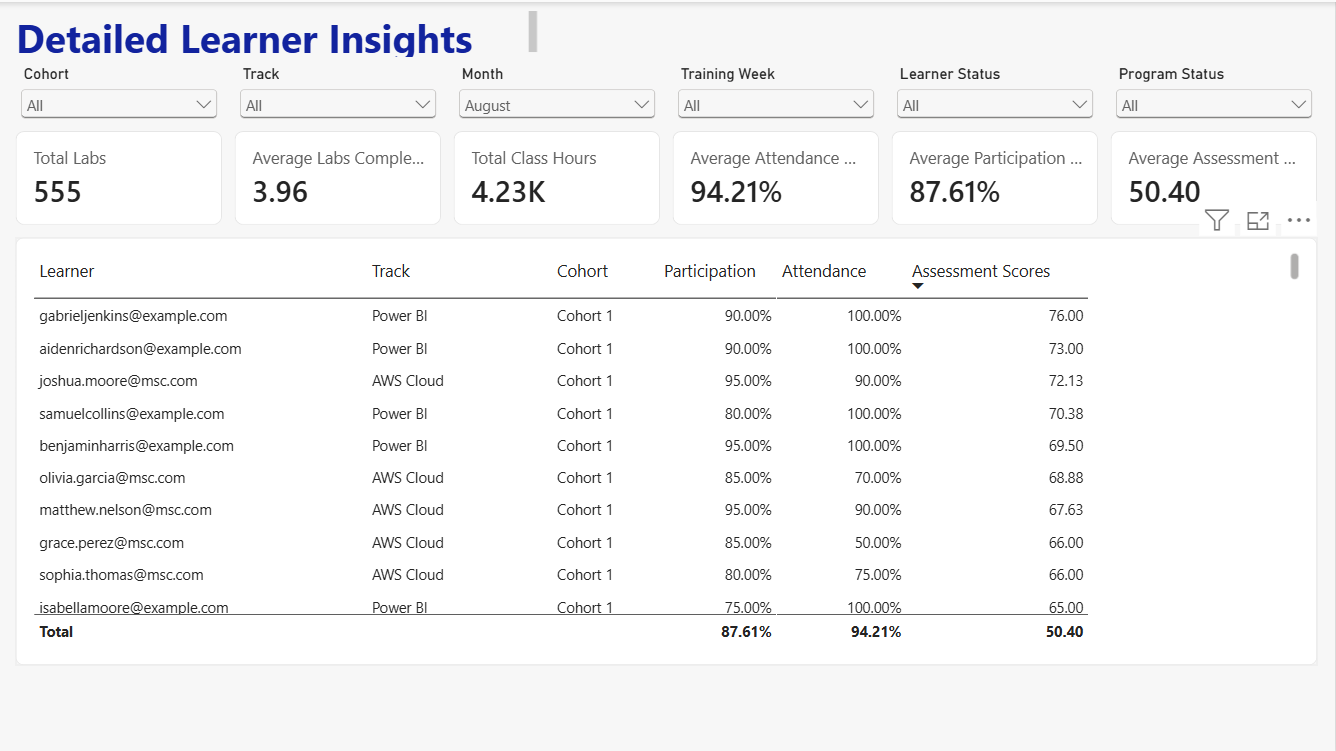

The dashboard page shown, as its layout file describes it:
{"tool":"powerbi","page":{"name":"Detailed Learner Insights","canvas":[1280,720],"ordinal":1},"visuals":[{"type":"textbox","box":[16,8,500,44],"z":0},{"type":"slicer","fields":{"Values":["DimLearner.Cohort"]},"box":[16,60,198,52],"z":1},{"type":"slicer","fields":{"Values":["DimLearner.Track"]},"box":[226,60,198,52],"z":2},{"type":"slicer","fields":{"Values":["DimDate.Training Week"]},"box":[646,60,198,52],"z":3},{"type":"slicer","fields":{"Values":["DimLearner.FactLearnerStatus.Certification Status"]},"box":[856,60,198,52],"z":4},{"type":"slicer","fields":{"Values":["DimLearner.Program Status"]},"box":[1066,60,198,52],"z":5},{"type":"cardVisual","fields":{"Data":["DAX_Measures.Average Attendance Rate per Learner"]},"box":[646,124,198,90],"z":6},{"type":"cardVisual","fields":{"Data":["DAX_Measures.Average Assessment Score"]},"box":[1066,124,198,90],"z":7},{"type":"cardVisual","fields":{"Data":["DAX_Measures.Average Participation Rate"]},"box":[856,124,198,90],"z":8},{"type":"cardVisual","fields":{"Data":["DAX_Measures.Total Class Hours"]},"box":[436,124,198,90],"z":9},{"type":"cardVisual","fields":{"Data":["DAX_Measures.Total Labs"]},"box":[16,124,198,90],"z":10},{"type":"cardVisual","fields":{"Data":["DAX_Measures.Average Labs Completed"]},"box":[226,124,198,90],"z":11},{"type":"slicer","fields":{"Values":["DimDate.Month Name"]},"box":[436,60,198,52],"z":12},{"type":"tableEx","fields":{"Values":["DimLearner.email","DimLearner.Track","DimLearner.Cohort","DAX_Measures.Average Participation Rate per Learner","DAX_Measures.Average Attendance Rate per Learner","DAX_Measures.Average Assessment Score"]},"box":[16,226,1248,410],"z":13}]}

Visuals, with their boxes in screenshot pixels (x1, y1, x2, y2), scaled from the page's 1280x720 canvas onto the 1336x751 screenshot:
textbox: detection(17, 8, 539, 54)
slicer - DimLearner.Cohort: detection(17, 63, 223, 117)
slicer - DimLearner.Track: detection(236, 63, 443, 117)
slicer - DimDate.Training Week: detection(674, 63, 881, 117)
slicer - DimLearner.FactLearnerStatus.Certification Status: detection(893, 63, 1100, 117)
slicer - DimLearner.Program Status: detection(1113, 63, 1319, 117)
cardVisual - DAX_Measures.Average Attendance Rate per Learner: detection(674, 129, 881, 223)
cardVisual - DAX_Measures.Average Assessment Score: detection(1113, 129, 1319, 223)
cardVisual - DAX_Measures.Average Participation Rate: detection(893, 129, 1100, 223)
cardVisual - DAX_Measures.Total Class Hours: detection(455, 129, 662, 223)
cardVisual - DAX_Measures.Total Labs: detection(17, 129, 223, 223)
cardVisual - DAX_Measures.Average Labs Completed: detection(236, 129, 443, 223)
slicer - DimDate.Month Name: detection(455, 63, 662, 117)
tableEx - DimLearner.email x DimLearner.Track: detection(17, 236, 1319, 663)
